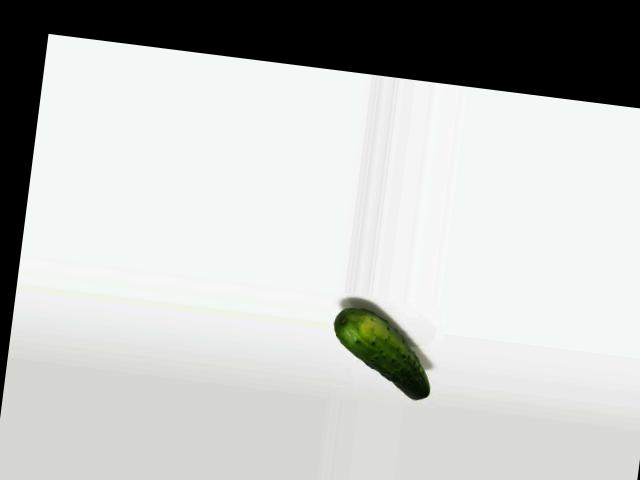cucumber: (327, 306, 439, 401)
